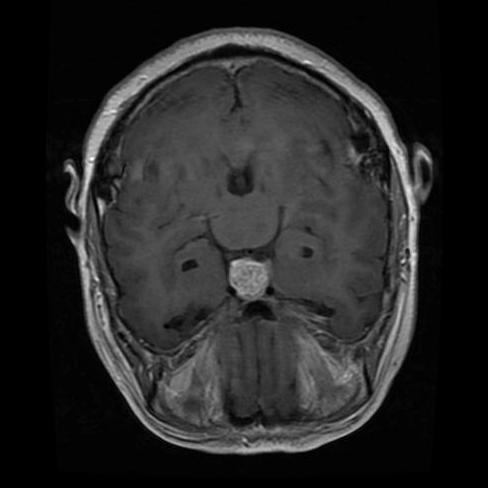Tumour-Pituitary: (225, 253, 274, 306)
